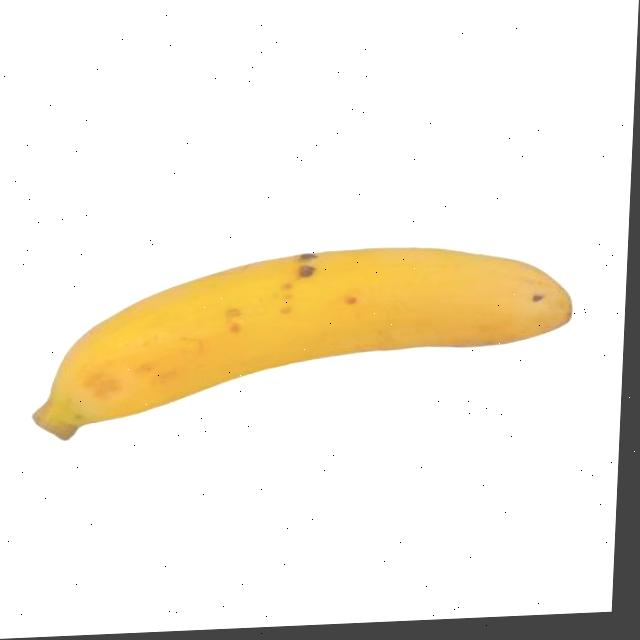banana: (25, 234, 582, 449)
